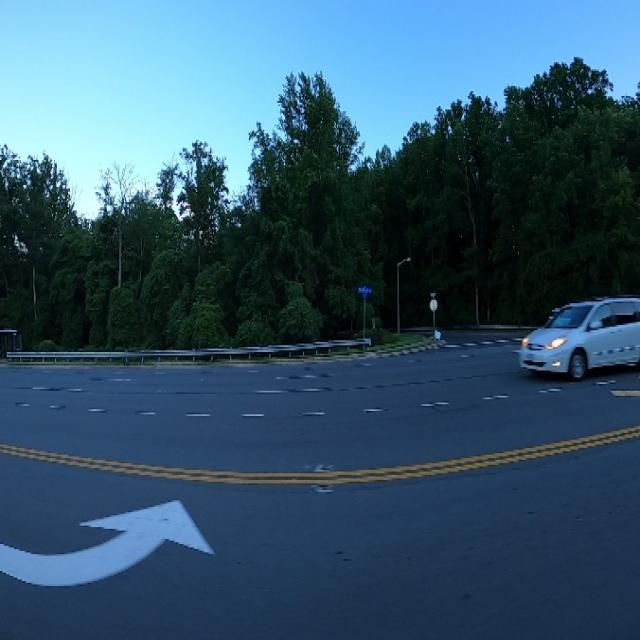car: (510, 275, 640, 386)
